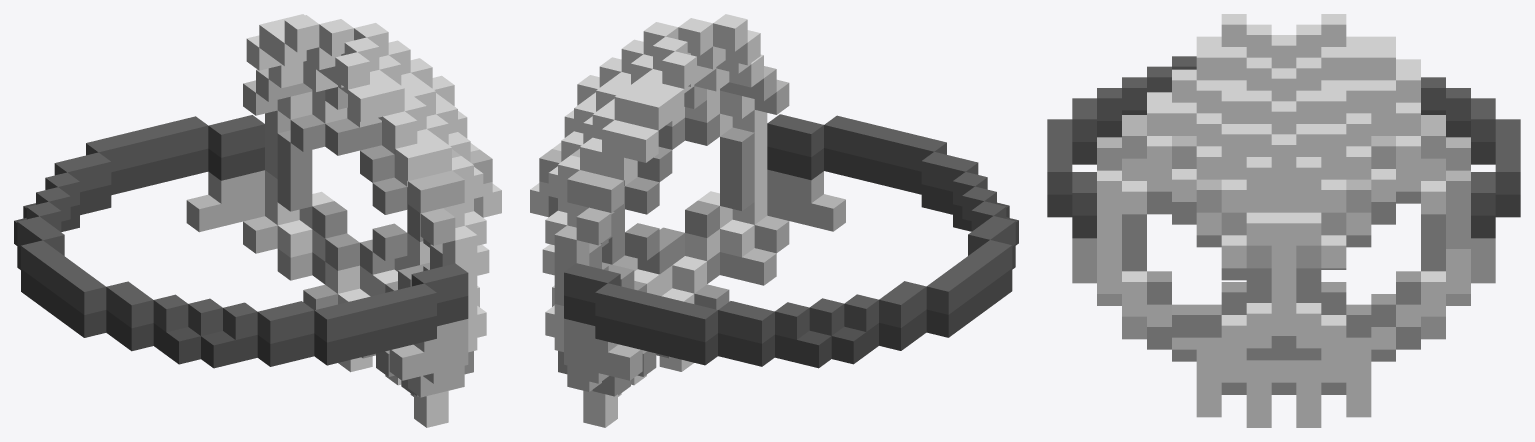
Rendered from Mascara Conejo.obj.
3 renders of one model, left to right at view 1: azimuth 30°, elevation 25°; view 2: azimuth 150°, elevation 25°; view 3: azimuth 270°, elevation 25°, orthographic. The views are drawn at different scales.
Size of the model in its own units: 1.9 by 1.6 by 1.9.
